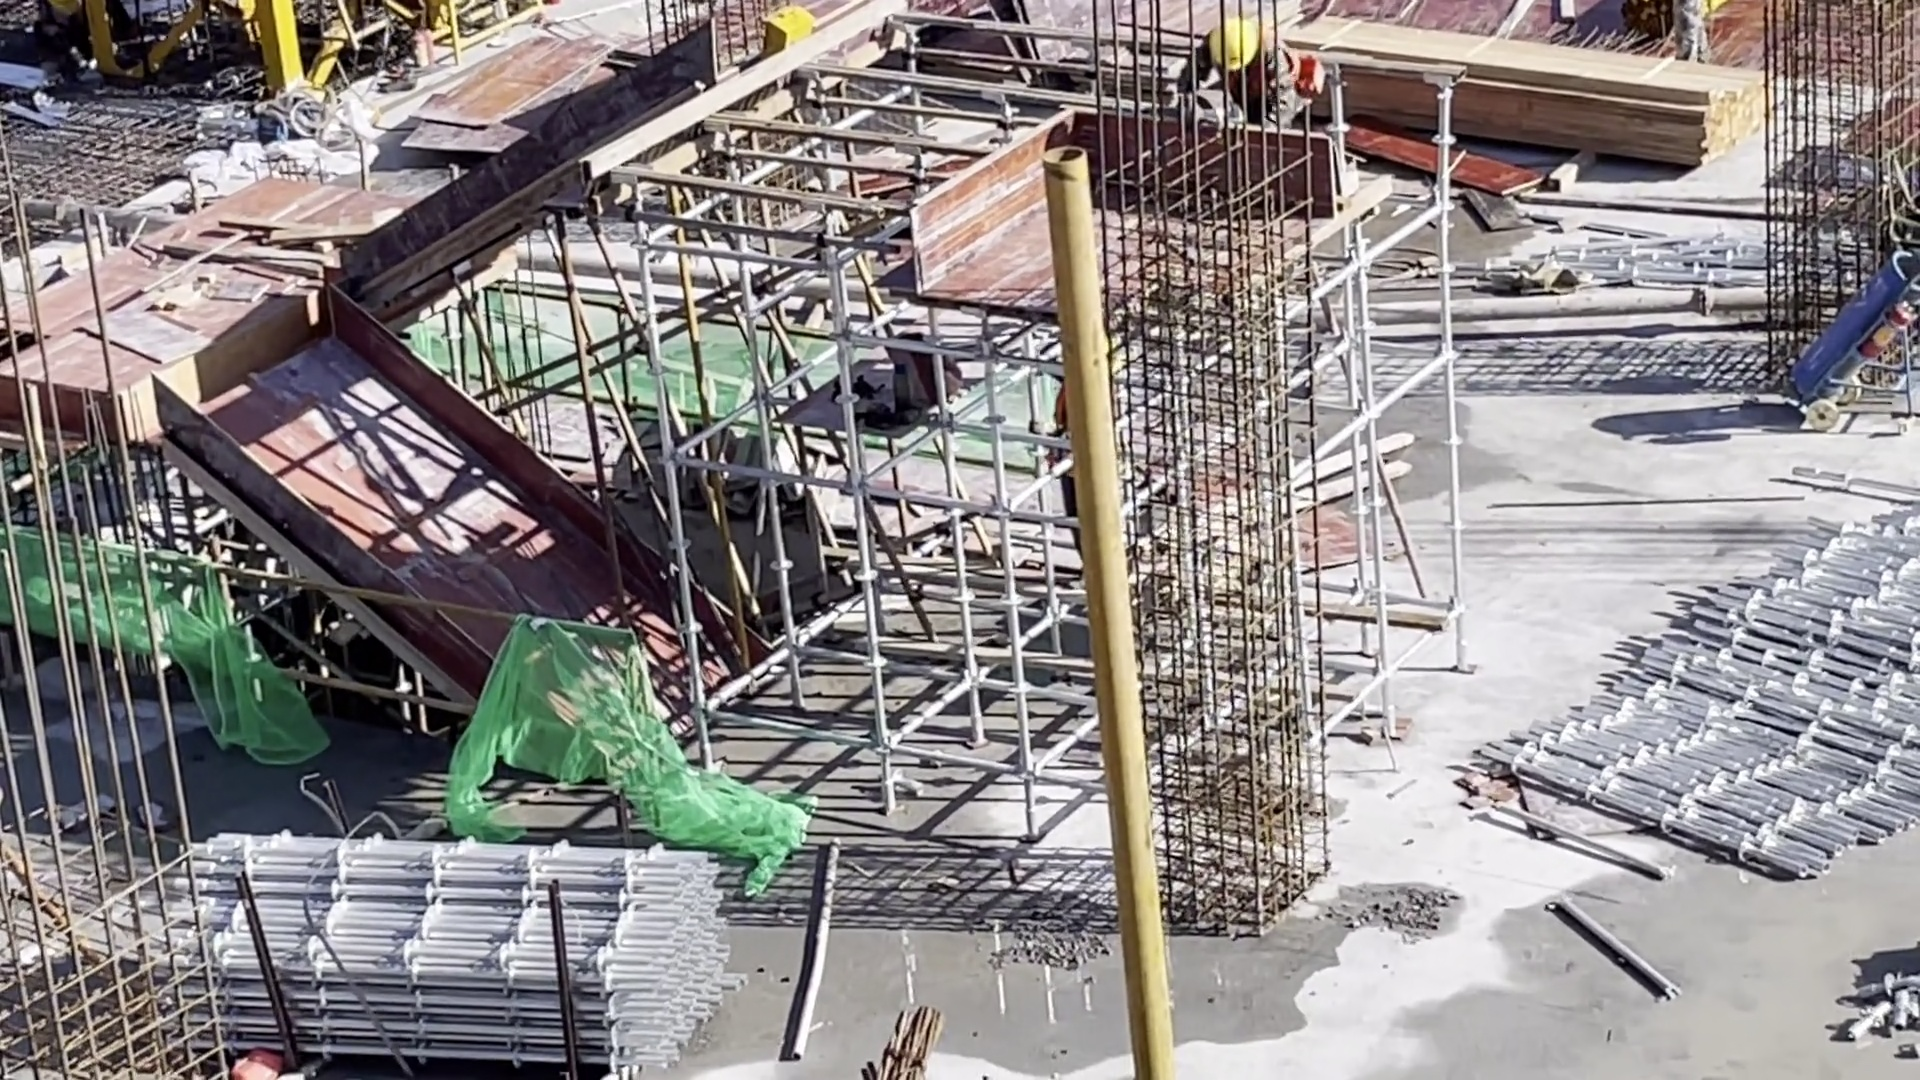helmet: (1209, 24, 1261, 66)
person: (1185, 22, 1303, 137), (1665, 5, 1715, 58)
scaffold: (1483, 486, 1920, 876), (169, 824, 752, 1074)
wood: (1289, 14, 1763, 183)
